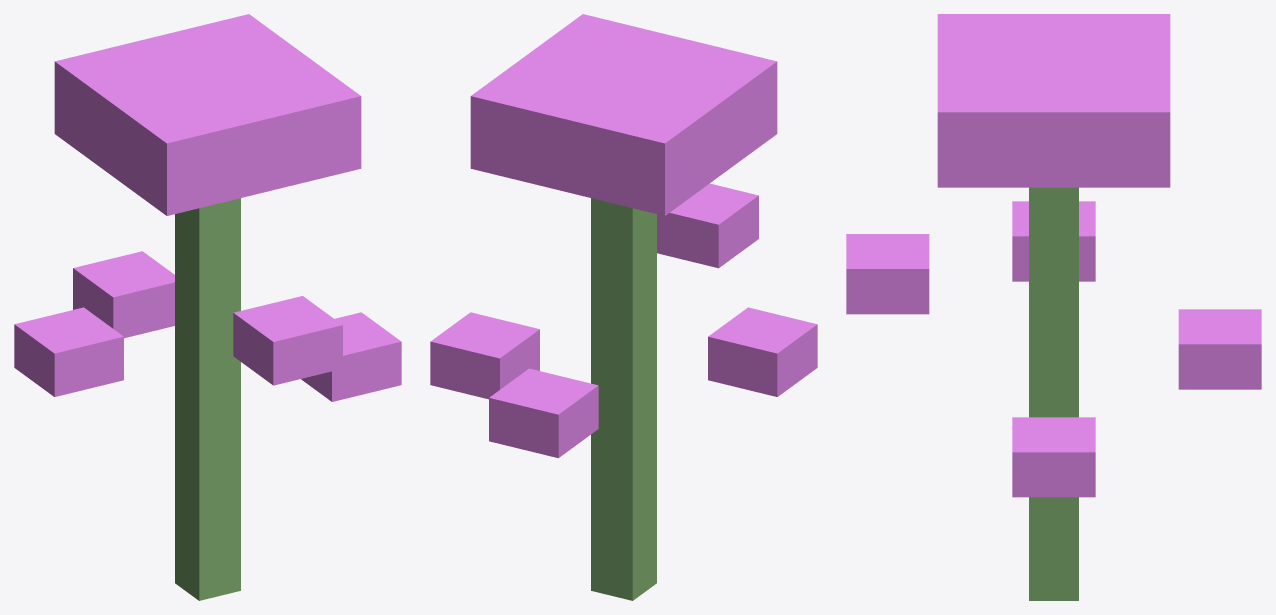
The model's file is Prop_DS_Herb_SwapRoot_S3_V1.glb.
3 renders of one model, left to right at view 1: azimuth 30°, elevation 25°; view 2: azimuth 150°, elevation 25°; view 3: azimuth 270°, elevation 25°, orthographic. The views are drawn at different scales.
Visible parts, largest first — view 1: Prop_DS_Herb_SwapRoot_S3_V1; view 2: Prop_DS_Herb_SwapRoot_S3_V1; view 3: Prop_DS_Herb_SwapRoot_S3_V1.
Boxes of the visible parts, x1,y1,x2,y2 form: Prop_DS_Herb_SwapRoot_S3_V1: [14, 14, 401, 600]; Prop_DS_Herb_SwapRoot_S3_V1: [430, 14, 817, 600]; Prop_DS_Herb_SwapRoot_S3_V1: [846, 14, 1261, 600].
Bounding box in the file's own units: 0.5 × 0.7 × 0.5.
